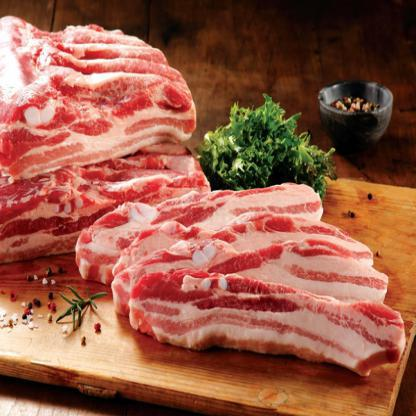pork: (80, 190, 406, 367), (0, 16, 200, 268)
